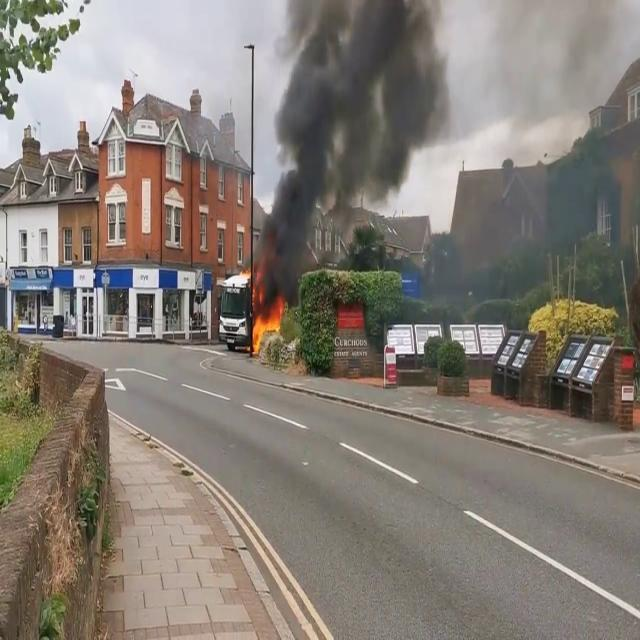Fire: (250, 296, 286, 350)
Smoke: (255, 0, 450, 288), (425, 1, 639, 139)
